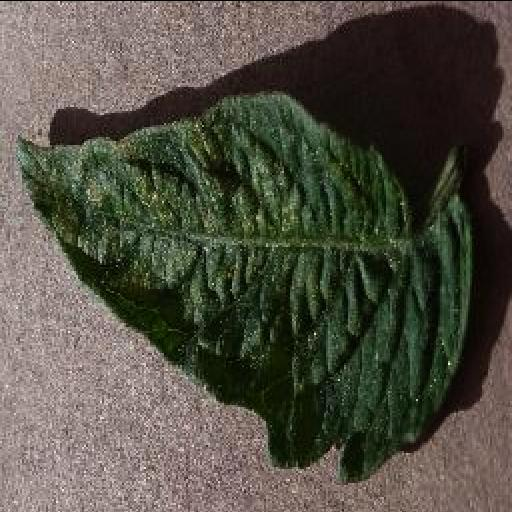disease_tomato: (13, 89, 471, 483)
